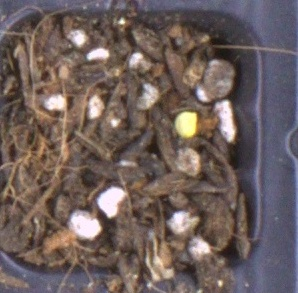chilli seed: (174, 111, 197, 139)
